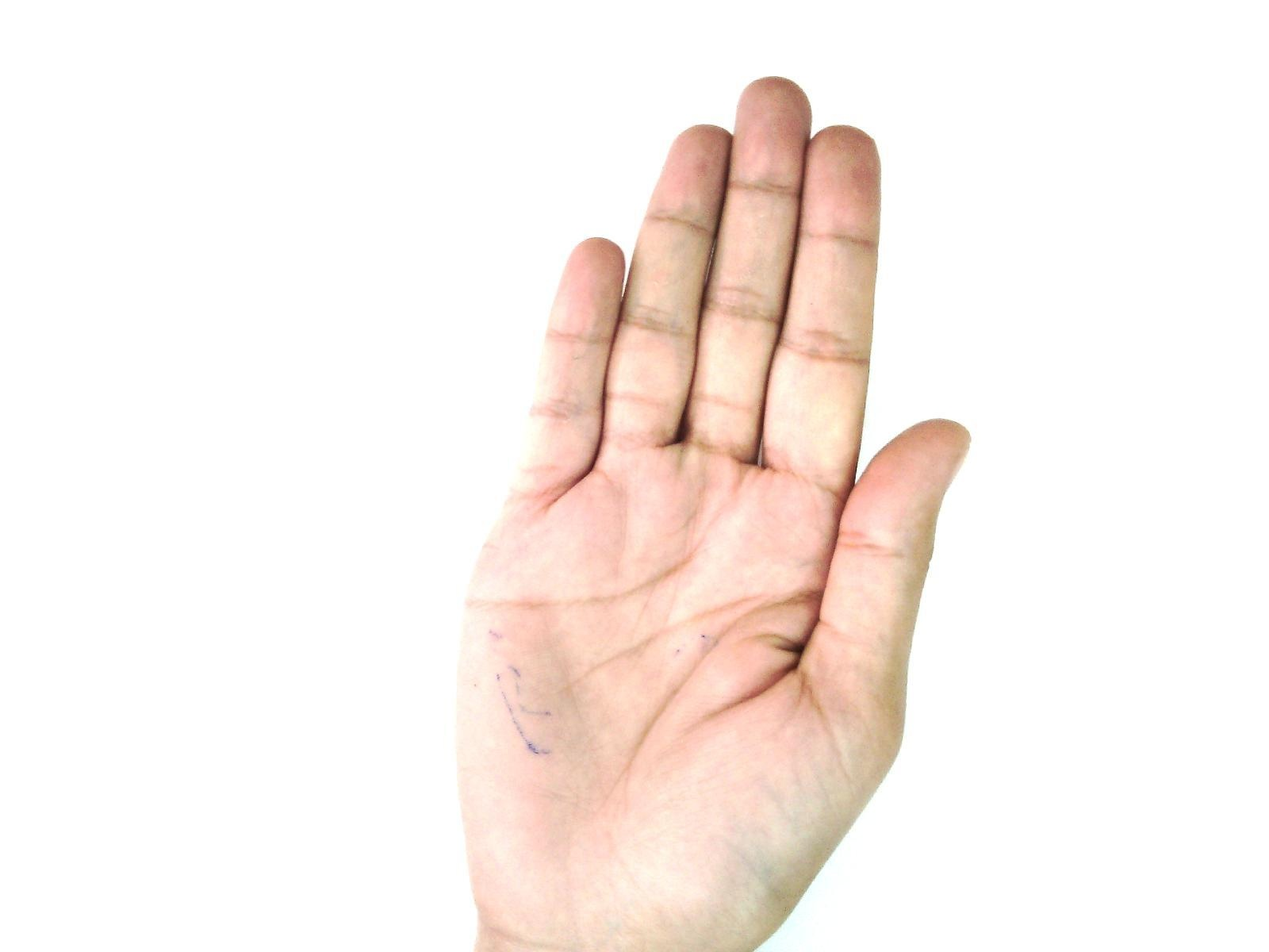open_palm: (452, 75, 974, 951)
